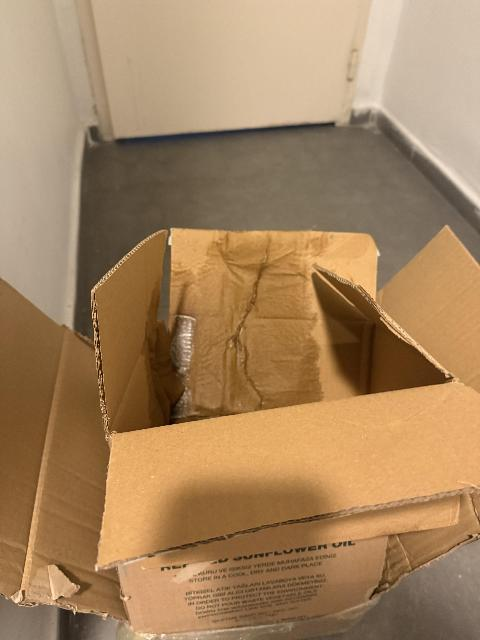Kagit: (0, 222, 480, 640)
